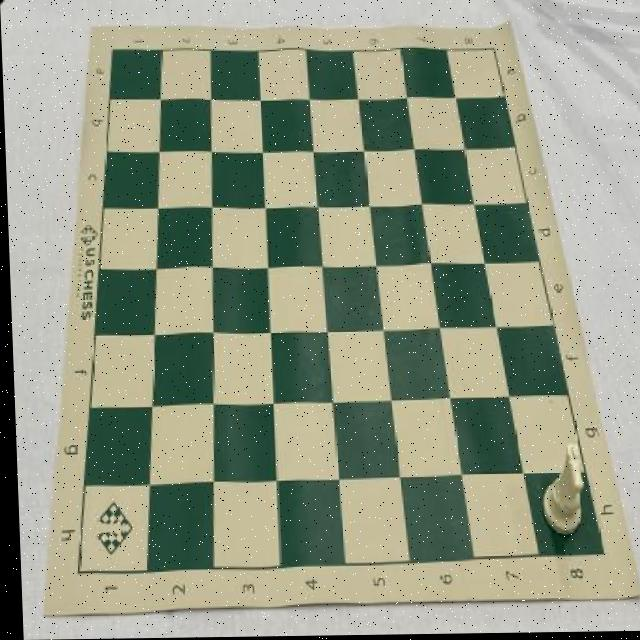white-king: (538, 446, 583, 539)
